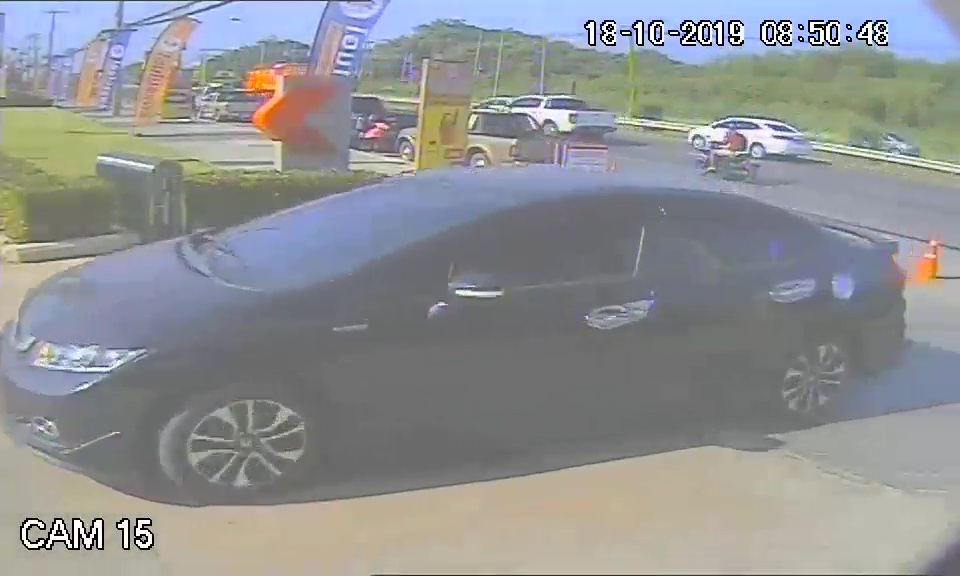sedan: (5, 165, 905, 498)
